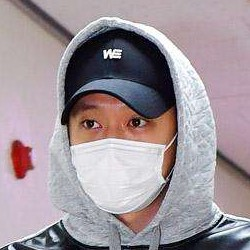mask: (62, 135, 180, 211)
